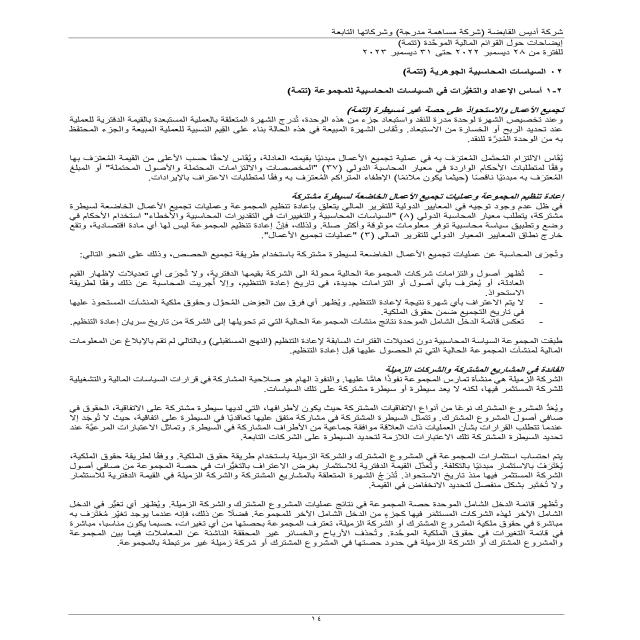notes: (390, 37, 568, 47)
text: (24, 60, 582, 564)
